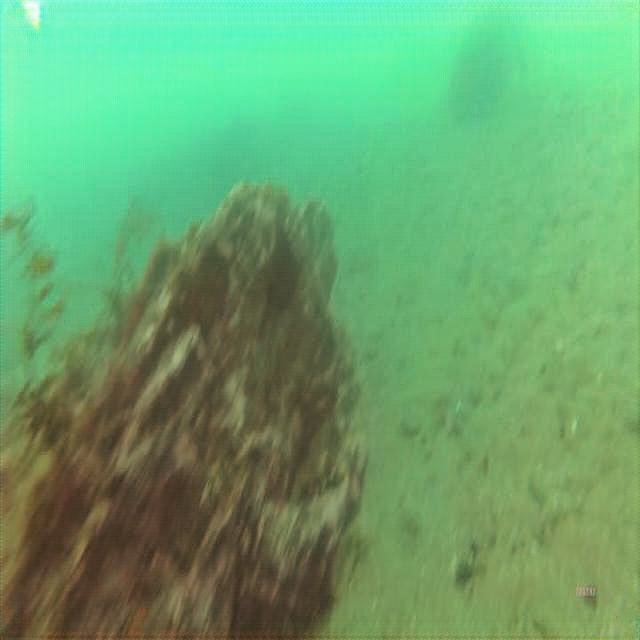echinus: (264, 230, 303, 314), (195, 242, 231, 328)
